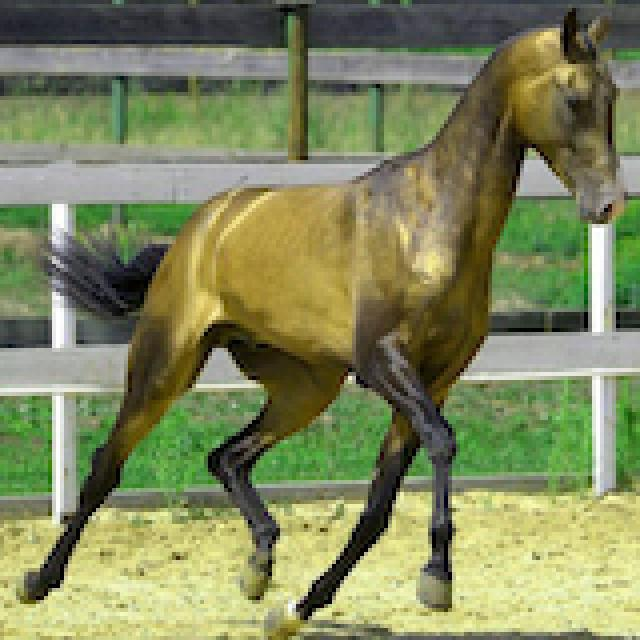Horse: (8, 0, 636, 636)
